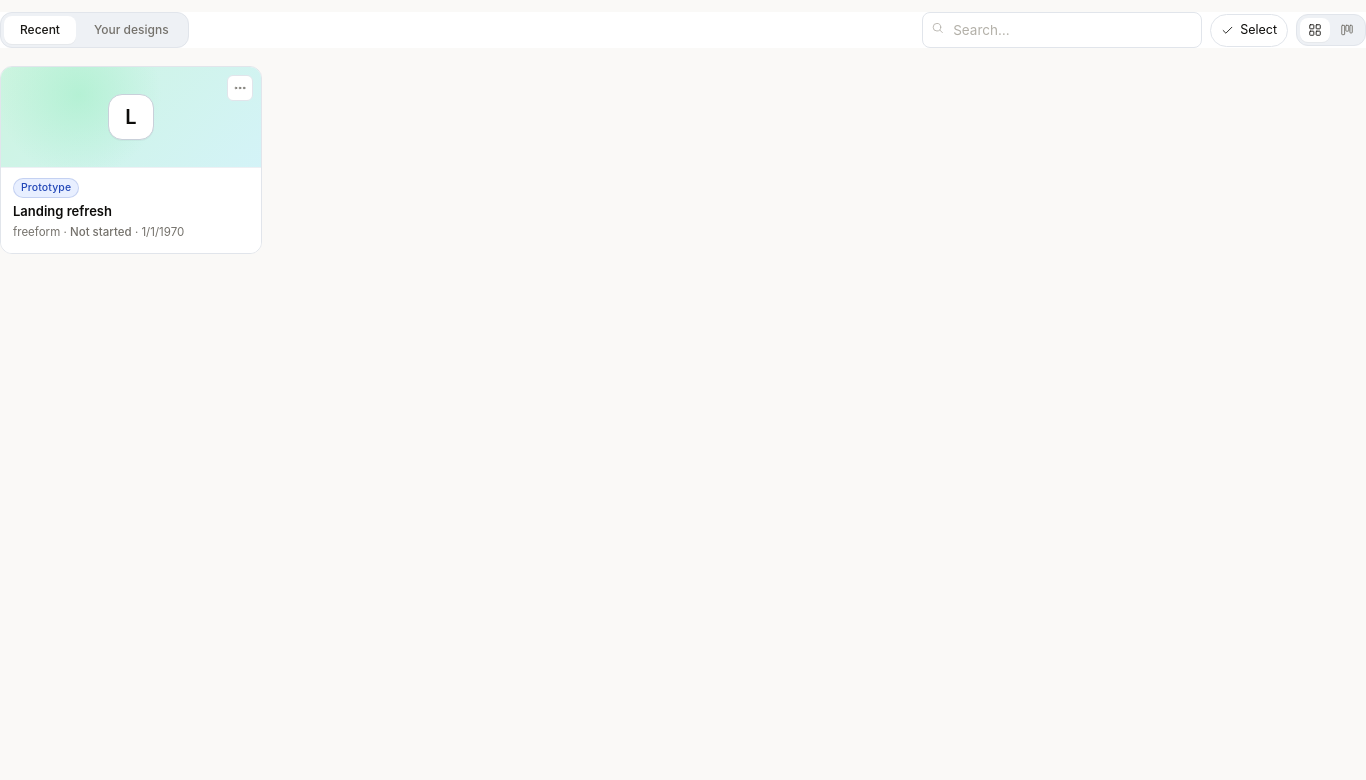
it: DesignsTab select mode › only exposes select mode in grid view
The width and height of the screenshot is (1366, 780).
expect the button "Select" is shown: met, box [1210,14,1288,47]
Click the button with test id "designs-view-kanban" at (1347, 30), box [1332,18,1362,42]
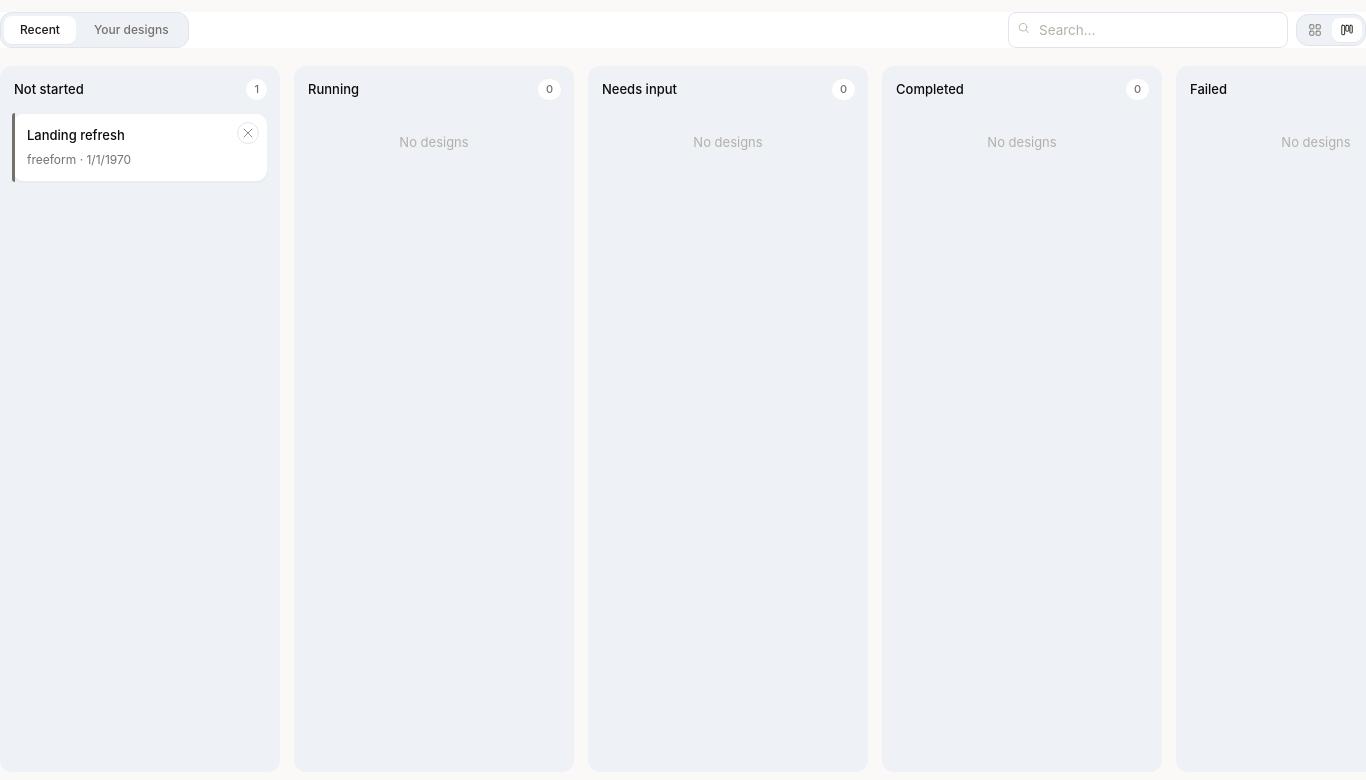
expect the button "Select" is gone: met
